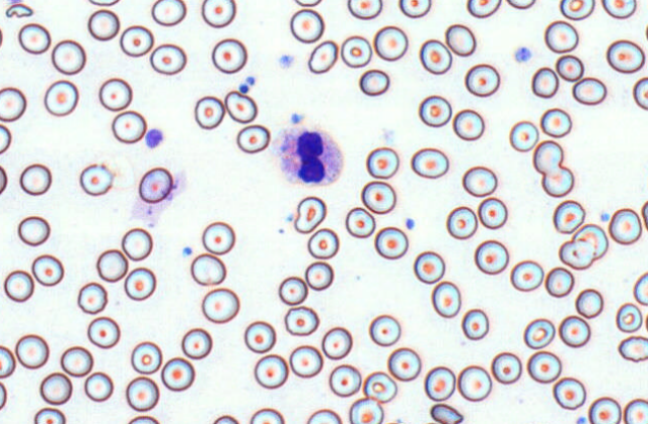GRAN: (273, 126, 344, 187)
PLT: (145, 127, 165, 148), (515, 46, 531, 62), (276, 56, 295, 68), (291, 112, 307, 124), (244, 74, 256, 86), (181, 246, 193, 258), (575, 415, 589, 424), (239, 84, 251, 94), (407, 219, 415, 229), (603, 210, 610, 221)
RBC: (201, 287, 239, 323), (571, 223, 608, 259), (606, 39, 645, 73), (138, 166, 173, 203), (43, 79, 78, 116), (211, 38, 247, 73), (51, 39, 86, 75), (253, 353, 288, 389), (608, 207, 642, 244), (289, 8, 324, 43), (160, 356, 195, 391), (373, 25, 407, 61), (360, 180, 396, 214), (464, 63, 500, 97), (15, 333, 49, 369), (457, 365, 491, 401), (125, 376, 159, 411), (288, 344, 323, 378), (474, 239, 508, 274), (190, 252, 226, 285), (419, 38, 452, 74), (149, 43, 186, 75), (410, 147, 448, 178), (98, 77, 132, 111), (552, 376, 586, 410), (387, 347, 421, 381), (111, 110, 146, 143), (526, 350, 561, 383), (79, 163, 113, 196), (201, 221, 235, 254), (39, 371, 72, 405), (374, 226, 408, 259), (328, 363, 361, 397), (544, 20, 578, 53), (365, 146, 399, 179), (362, 370, 397, 402), (462, 165, 497, 197), (424, 365, 455, 401), (431, 280, 461, 317), (224, 90, 257, 123), (31, 253, 64, 286), (243, 320, 276, 353), (96, 248, 128, 282), (119, 25, 153, 57), (124, 266, 156, 300), (130, 340, 162, 374), (413, 250, 445, 284), (553, 199, 585, 233), (532, 139, 563, 174), (284, 305, 319, 336), (558, 239, 594, 269), (541, 165, 574, 197), (444, 23, 476, 56), (340, 35, 372, 68), (18, 22, 51, 54), (87, 316, 120, 348), (490, 351, 522, 384), (418, 95, 451, 127), (510, 259, 543, 291), (558, 314, 590, 347), (121, 227, 152, 261), (446, 205, 477, 239), (307, 227, 339, 259), (523, 317, 555, 349), (19, 163, 51, 195), (452, 108, 484, 140), (368, 314, 400, 346), (307, 40, 338, 73), (3, 269, 34, 302), (60, 345, 93, 376), (321, 326, 352, 359), (17, 215, 50, 246), (194, 95, 224, 129), (87, 9, 119, 40), (181, 327, 212, 359), (77, 281, 107, 314), (477, 196, 507, 229), (236, 124, 270, 153), (572, 76, 606, 105), (201, 0, 236, 28), (345, 206, 375, 238), (509, 120, 539, 152), (540, 107, 572, 137), (544, 266, 574, 297), (151, 0, 186, 26), (348, 397, 383, 423), (0, 86, 26, 121), (84, 371, 113, 402), (531, 66, 559, 98), (461, 308, 489, 340), (588, 396, 621, 423), (278, 275, 307, 305), (358, 68, 389, 96), (304, 261, 333, 290), (575, 288, 603, 318), (615, 302, 642, 332), (618, 335, 647, 362), (555, 54, 584, 81), (559, 0, 594, 20), (601, 0, 637, 19), (347, 0, 382, 19), (466, 0, 501, 18), (623, 398, 647, 423), (398, 0, 431, 18), (249, 407, 284, 423), (306, 408, 342, 423), (33, 407, 65, 423), (632, 76, 647, 110), (0, 345, 15, 378), (633, 271, 647, 305), (0, 123, 11, 154), (505, 0, 536, 9), (126, 415, 160, 423), (212, 414, 239, 423), (641, 199, 648, 232), (0, 164, 7, 194), (0, 381, 7, 410), (293, 0, 322, 7), (88, 0, 120, 6), (382, 418, 408, 424), (644, 21, 648, 41), (645, 310, 648, 335), (0, 25, 3, 49), (419, 421, 442, 424)
Schistocyte: (294, 197, 327, 234), (430, 403, 465, 424), (5, 4, 32, 18)
